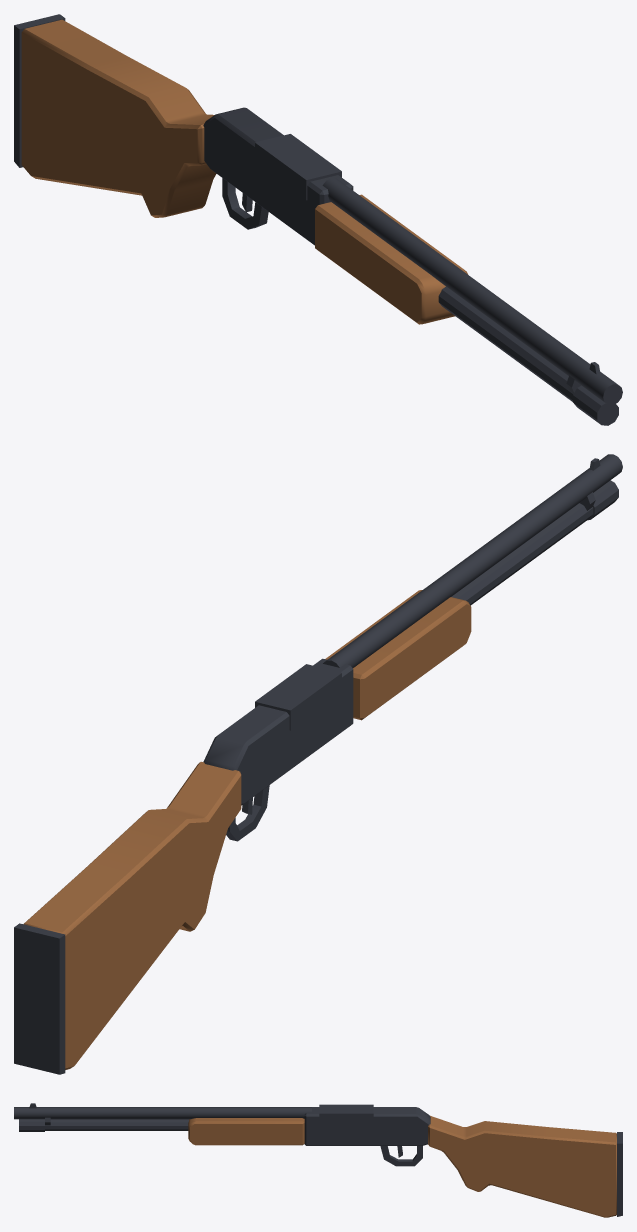
Rendered from Shotgun.fbx.
3 views of the same model, one above another, from view 1: azimuth 30°, elevation 25°; view 2: azimuth 150°, elevation 25°; view 3: azimuth 270°, elevation 25° (orthographic). The views are drawn at different scales.
Visible parts, largest first — view 1: Shotgun; view 2: Shotgun; view 3: Shotgun.
Part boxes in pixels (box(x1,y1,x2,y2)): Shotgun: box(14, 14, 622, 425); Shotgun: box(14, 454, 622, 1074); Shotgun: box(14, 1103, 622, 1217).
Size of the model in its own units: 0.05 by 0.1981 by 1.
